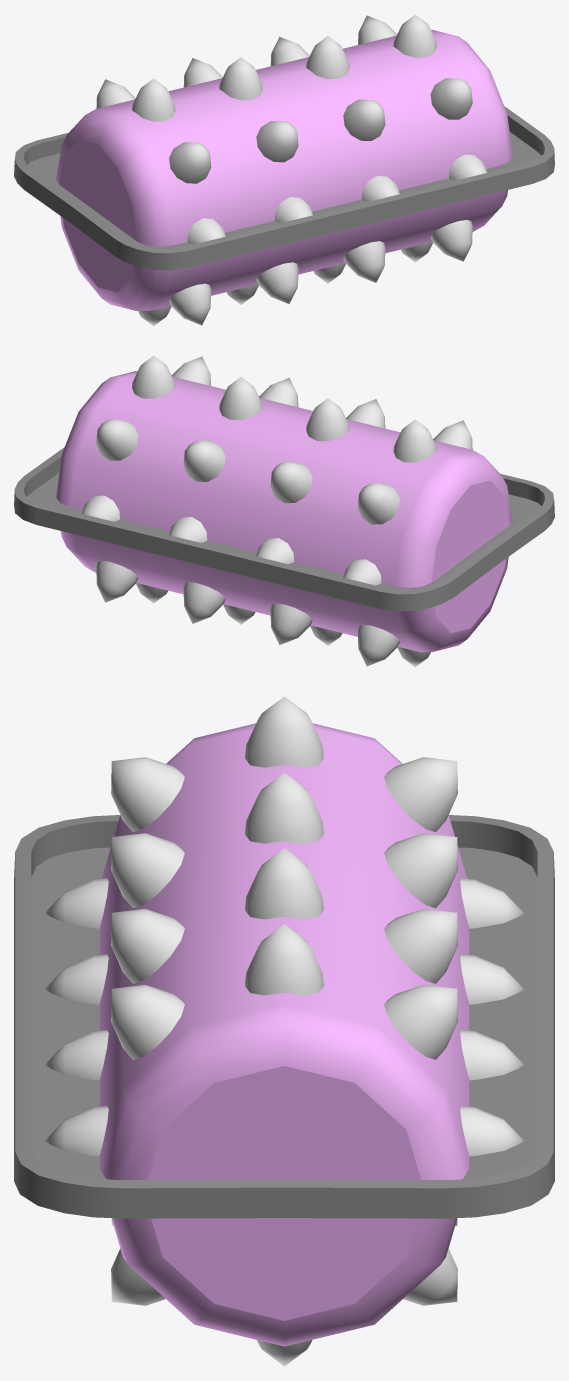
The model's file is Obstacle_12.fbx.
3 views of the same model, one above another, from view 1: azimuth 30°, elevation 25°; view 2: azimuth 150°, elevation 25°; view 3: azimuth 270°, elevation 25° (orthographic). The views are drawn at different scales.
Visible parts, largest first — view 1: polySurface167, polySurface158; view 2: polySurface167, polySurface158; view 3: polySurface167, polySurface158.
Boxes of the visible parts, bbox=[...] form: polySurface167: bbox=[56, 14, 512, 326]; polySurface158: bbox=[14, 106, 554, 270]; polySurface167: bbox=[56, 355, 512, 667]; polySurface158: bbox=[14, 447, 554, 611]; polySurface167: bbox=[45, 696, 523, 1366]; polySurface158: bbox=[14, 815, 554, 1218].
Size of the model in its own units: 2.13 by 1.17 by 1.3.
